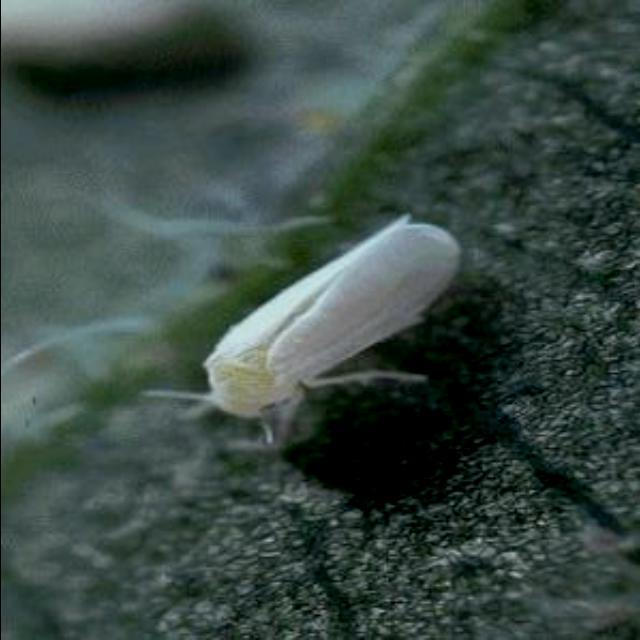Silverleaf whitefly: (156, 190, 466, 462)
